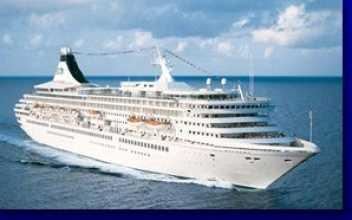youlun: (12, 42, 322, 197)
